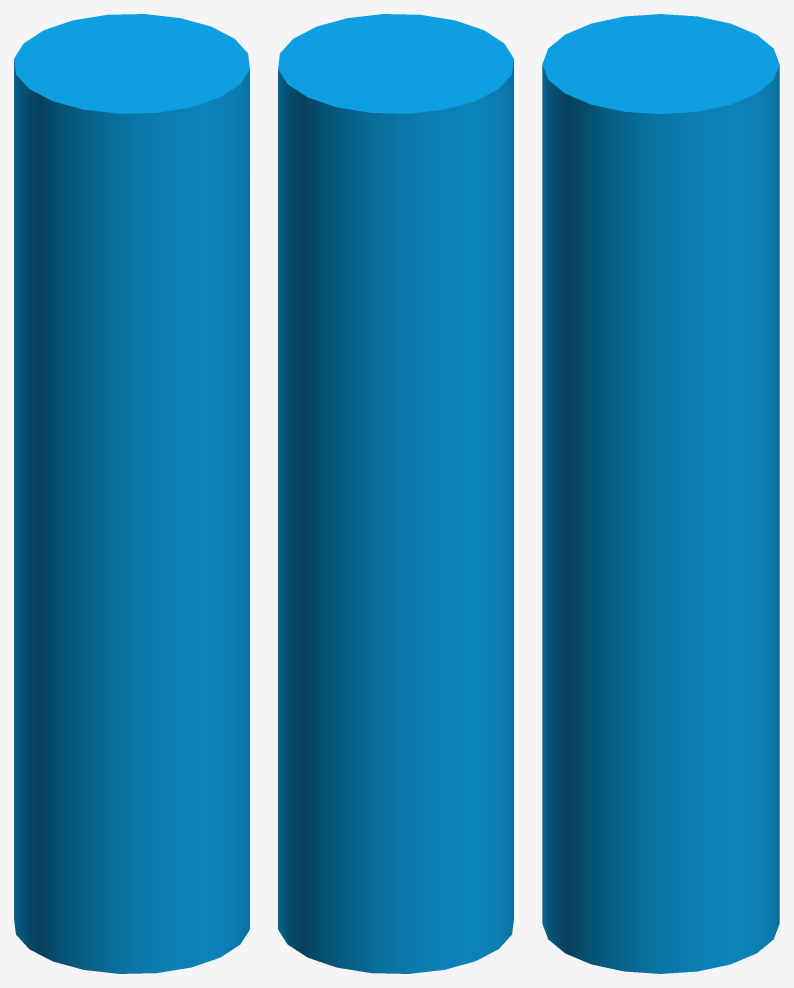
File: Wrench.gltf
The picture shows the model from 3 angles, left to right: view 1: azimuth 30°, elevation 25°; view 2: azimuth 150°, elevation 25°; view 3: azimuth 270°, elevation 25°; orthographic projection.
Visible parts, largest first — view 1: Wrench; view 2: Wrench; view 3: Wrench.
Boxes of the visible parts, left/top/right/bottom form: Wrench: left=14, top=14, right=249, bottom=973; Wrench: left=278, top=14, right=513, bottom=973; Wrench: left=542, top=14, right=779, bottom=973.
Size of the model in its own units: 0.05 by 0.2 by 0.05.
